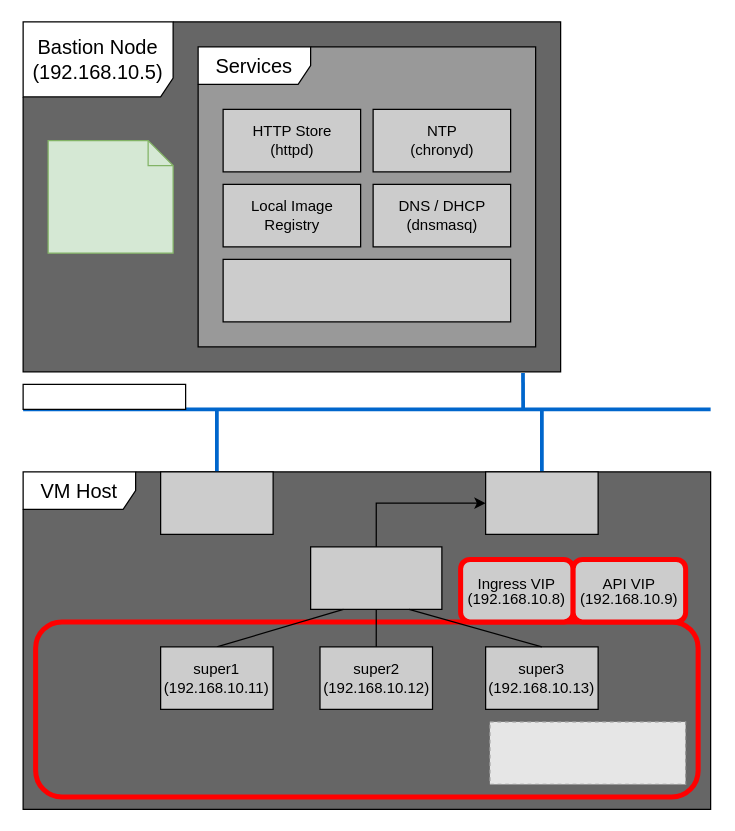
Some shapes in this 735 by 831 pixel diagram are drawn without their labels. Grey dashed boxes stand in for pictures. The centre of each missing label's shape, as x and y in pixels:
"Assisted Installer" belongs at point (366, 290).
"Crucible Playbooks" belongs at point (110, 196).
"eno1 (192.168.10.6)" belongs at point (216, 502).
"eno2 (bridge-slave)" belongs at point (541, 502).
"Management Network" belongs at point (104, 396).
"Virtual Bridge (192.168.10.7)" belongs at point (375, 577).
